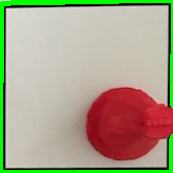Red Knight: (83, 77, 173, 164)
